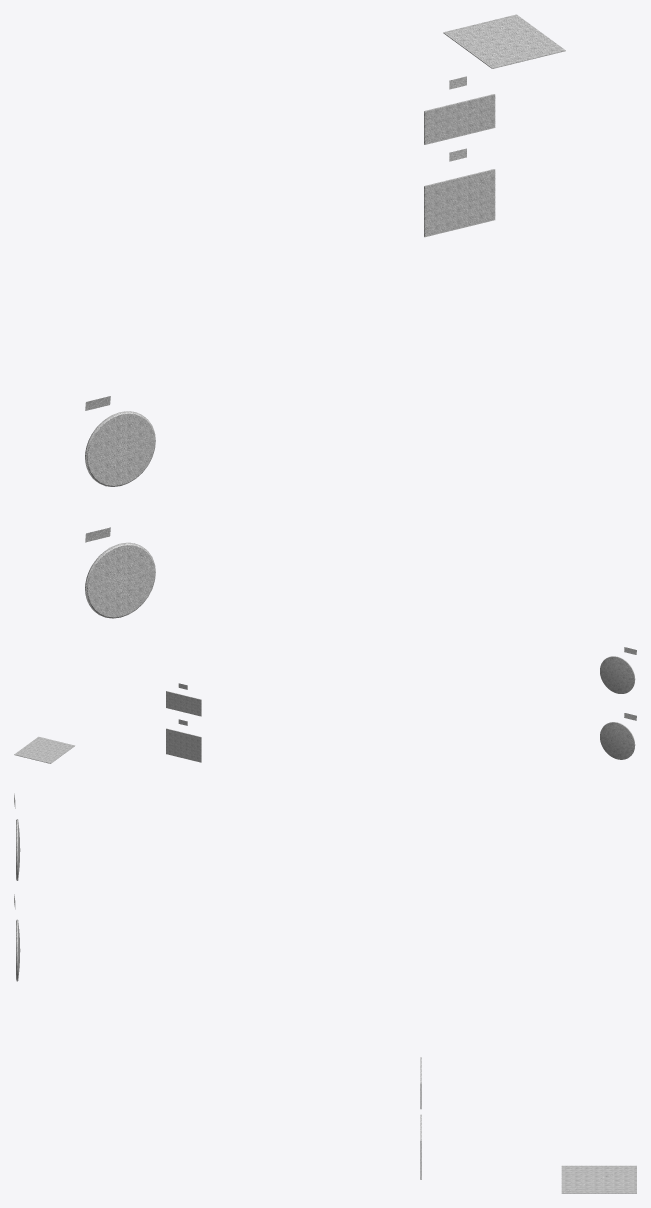
3 views of the same model, one above another, from view 1: azimuth 30°, elevation 25°; view 2: azimuth 150°, elevation 25°; view 3: azimuth 270°, elevation 25° (orthographic). The views are drawn at different scales.
Bounding box in the file's own units: 5.7 × 1.47 × 4.8.
Materials: 1 (1 with a texture image).
